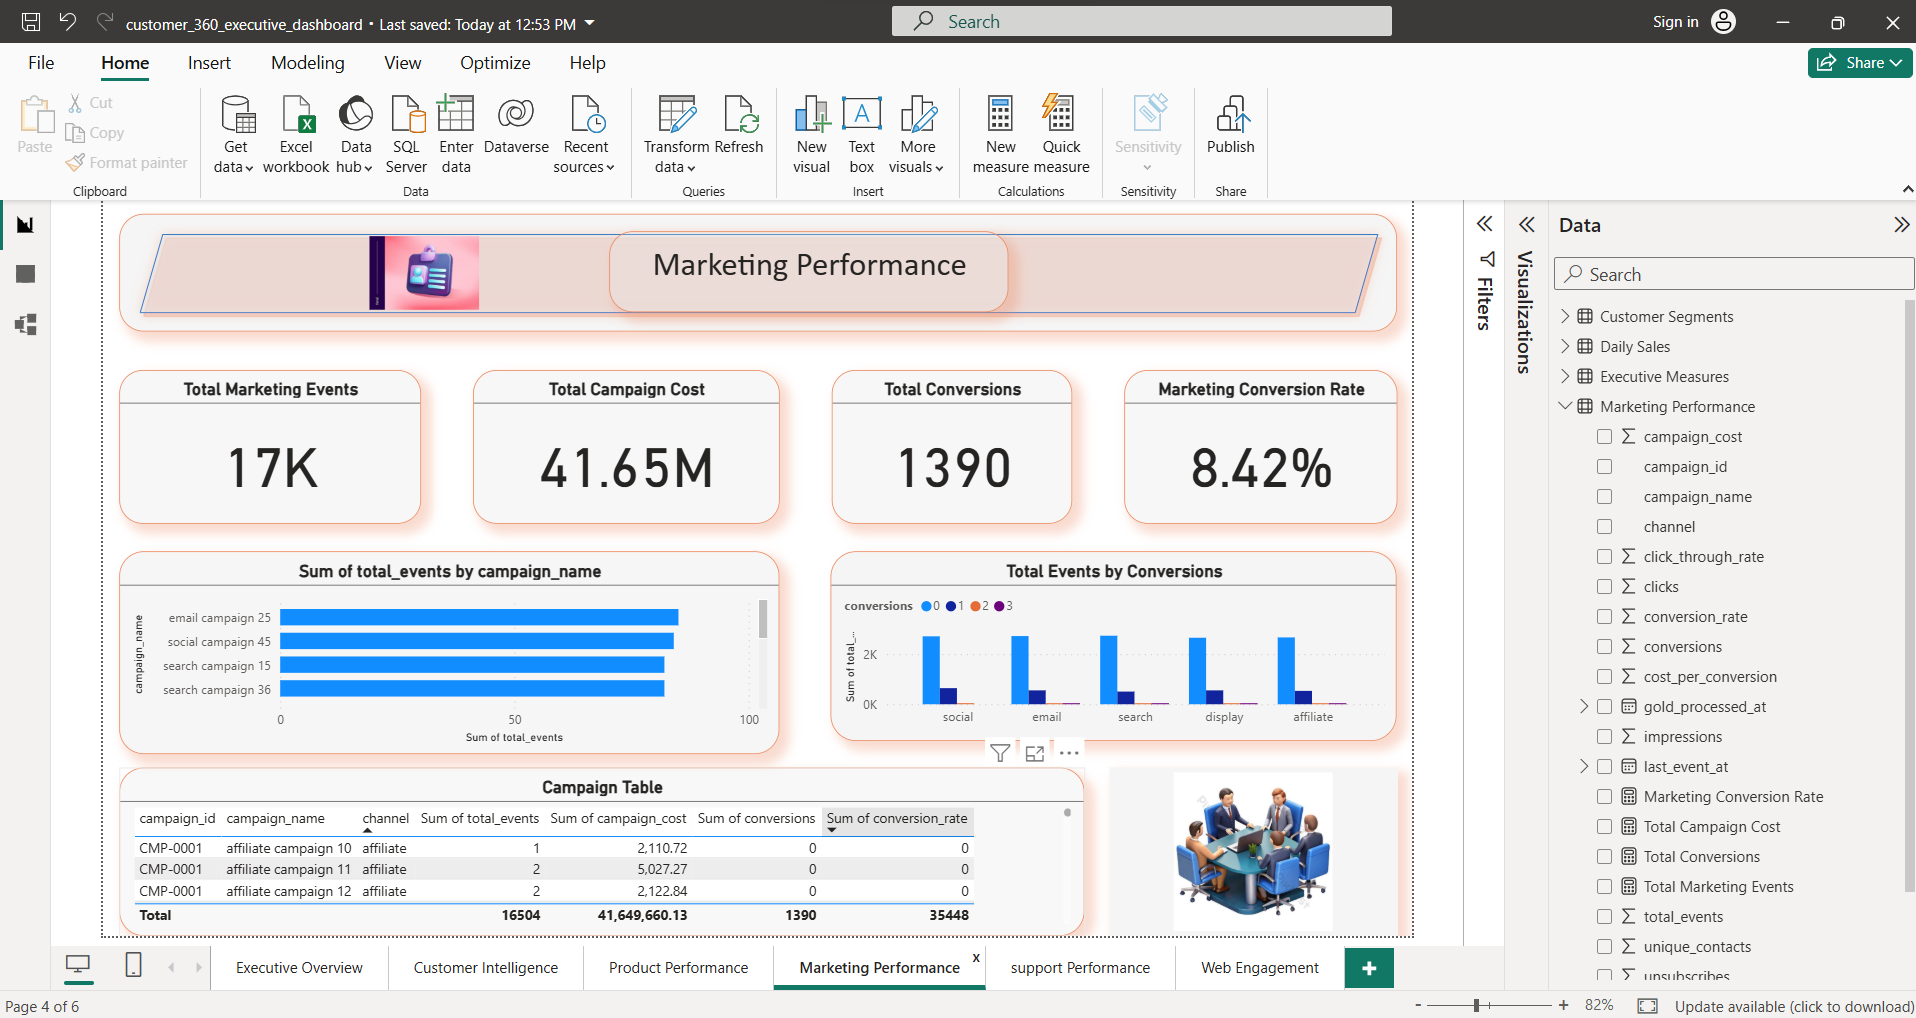

Layout of this report page (visuals, bound fields, positions):
{"tool":"powerbi","page":{"name":"Marketing Performance","canvas":[1280,720],"ordinal":3},"visuals":[{"type":"card","title":"Total Marketing Events","fields":{"Values":["Marketing Performance.Total Marketing Events"]},"box":[16.1,166.6,295.2,150.5],"z":0},{"type":"card","title":"Total Campaign Cost","fields":{"Values":["Marketing Performance.Total Campaign Cost"]},"box":[362,166.6,299.6,150.5],"z":1000},{"type":"card","title":"Total Conversions","fields":{"Values":["Marketing Performance.Total Conversions"]},"box":[712.3,166.6,235.3,150.5],"z":2000},{"type":"card","title":"Marketing Conversion Rate","fields":{"Values":["Marketing Performance.Marketing Conversion Rate"]},"box":[998.2,166.6,267.5,150.5],"z":3000},{"type":"clusteredBarChart","fields":{"Category":["Marketing Performance.campaign_name"],"Y":["Sum(Marketing Performance.total_events)"]},"box":[16.1,343.1,646,198.8],"z":4000},{"type":"clusteredColumnChart","title":"Total Events by Conversions","fields":{"Category":["Marketing Performance.channel"],"Y":["Sum(Marketing Performance.total_events)"],"Series":["Marketing Performance.conversions"]},"box":[711.8,343.1,553.9,185.6],"z":5000},{"type":"tableEx","title":"Campaign Table","fields":{"Values":["Marketing Performance.campaign_id","Marketing Performance.campaign_name","Marketing Performance.channel","Sum(Marketing Performance.total_events)","Sum(Marketing Performance.campaign_cost)","Sum(Marketing Performance.conversions)","Sum(Marketing Performance.conversion_rate)"]},"box":[16.1,555.4,944.1,165.2],"z":6000},{"type":"shape","box":[16.1,13.2,1249.6,115.5],"z":6001},{"type":"textbox","box":[495.5,30.7,390.2,78.9],"z":6002},{"type":"image","box":[983.6,555.4,282.1,165.2],"z":6003},{"type":"image","box":[163.7,30.7,301.1,81.8],"z":6004}]}

Visuals, with their boxes on the page's 1280x720 design canvas (x1, y1, x2, y2). These are canvas units, not pixel positions in the 1916x1018 screenshot, which may show the page scaled, cropped or inside an application window:
"Total Marketing Events" card: [x1=16, y1=167, x2=311, y2=317]
"Total Campaign Cost" card: [x1=362, y1=167, x2=662, y2=317]
"Total Conversions" card: [x1=712, y1=167, x2=948, y2=317]
"Marketing Conversion Rate" card: [x1=998, y1=167, x2=1266, y2=317]
clusteredBarChart - Marketing Performance.campaign_name x Sum(Marketing Performance.total_events): [x1=16, y1=343, x2=662, y2=542]
"Total Events by Conversions" clusteredColumnChart: [x1=712, y1=343, x2=1266, y2=529]
"Campaign Table" tableEx: [x1=16, y1=555, x2=960, y2=721]
shape: [x1=16, y1=13, x2=1266, y2=129]
textbox: [x1=496, y1=31, x2=886, y2=110]
image: [x1=984, y1=555, x2=1266, y2=721]
image: [x1=164, y1=31, x2=465, y2=112]
